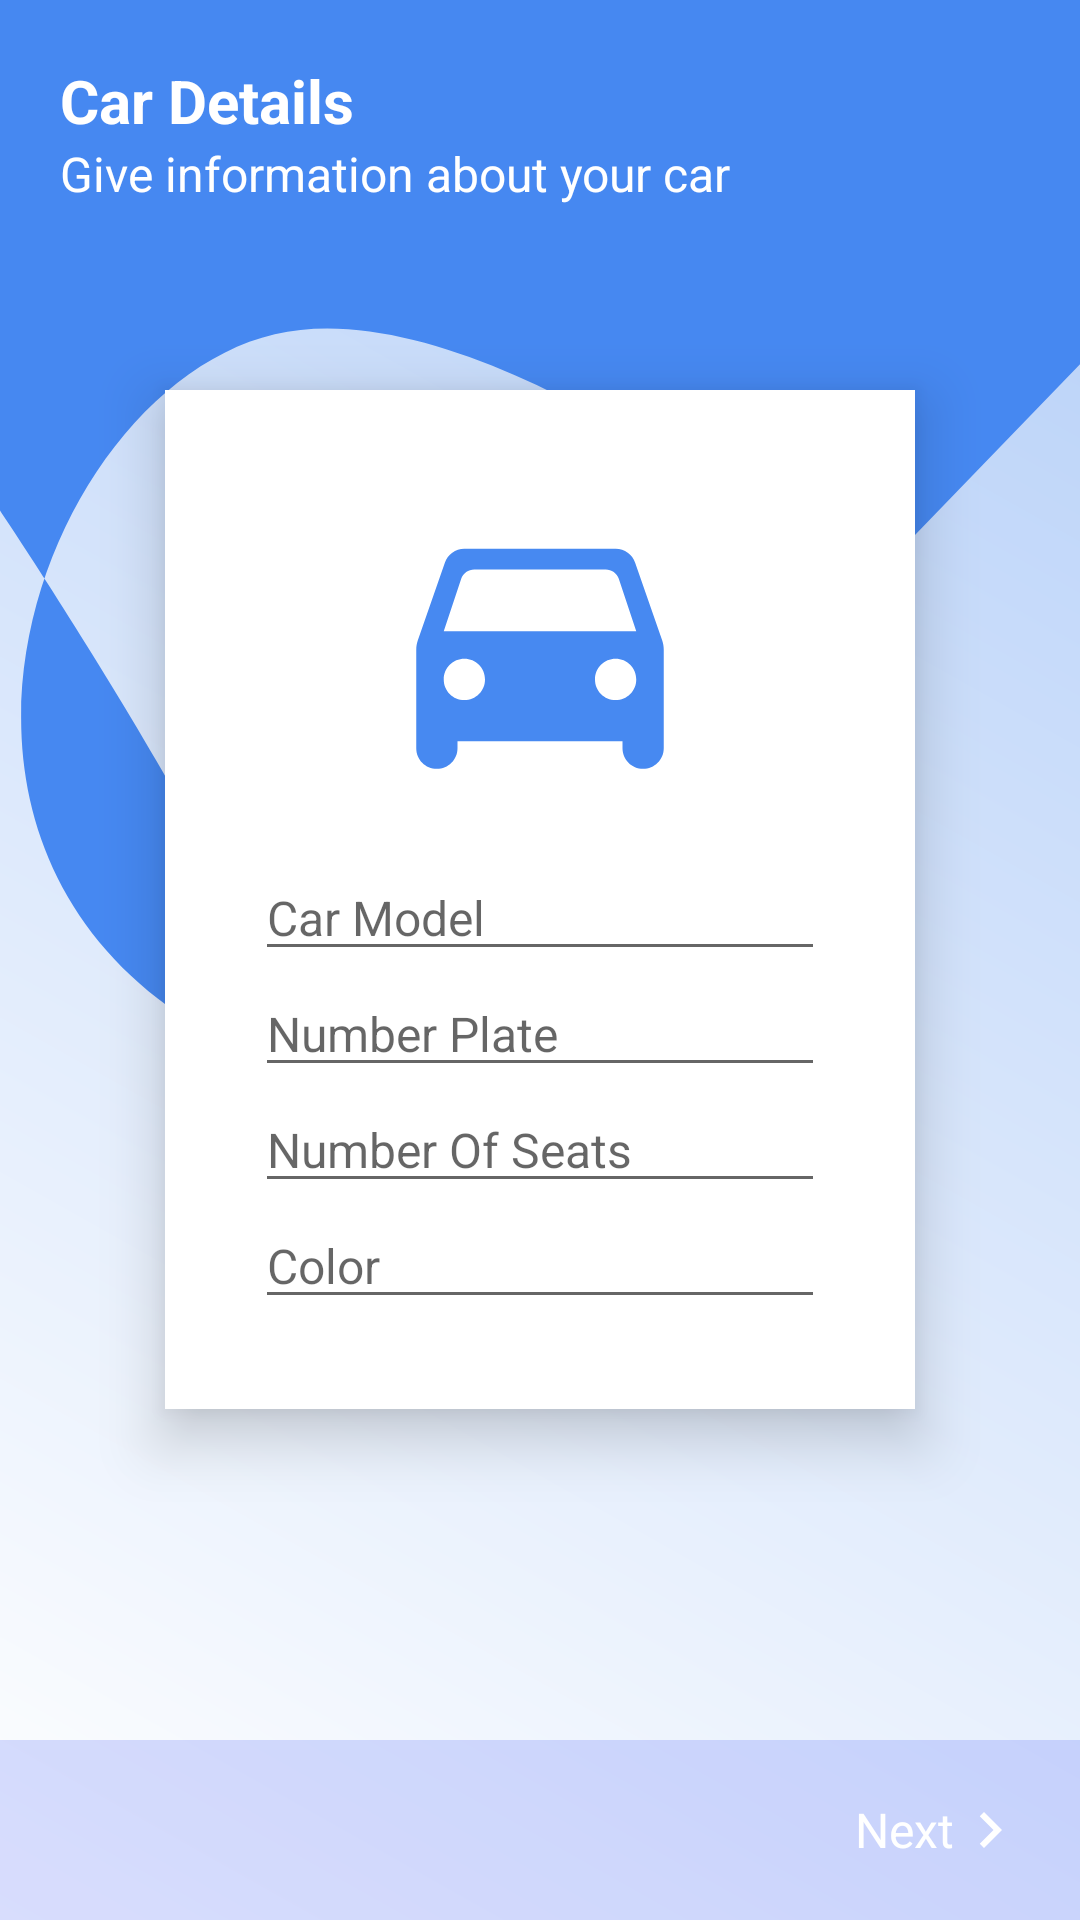

Named icons in this screenshot (1080*1920) and their bounding boxes, (x1, y1, x2, y2):
car front: (416, 548, 664, 769)
